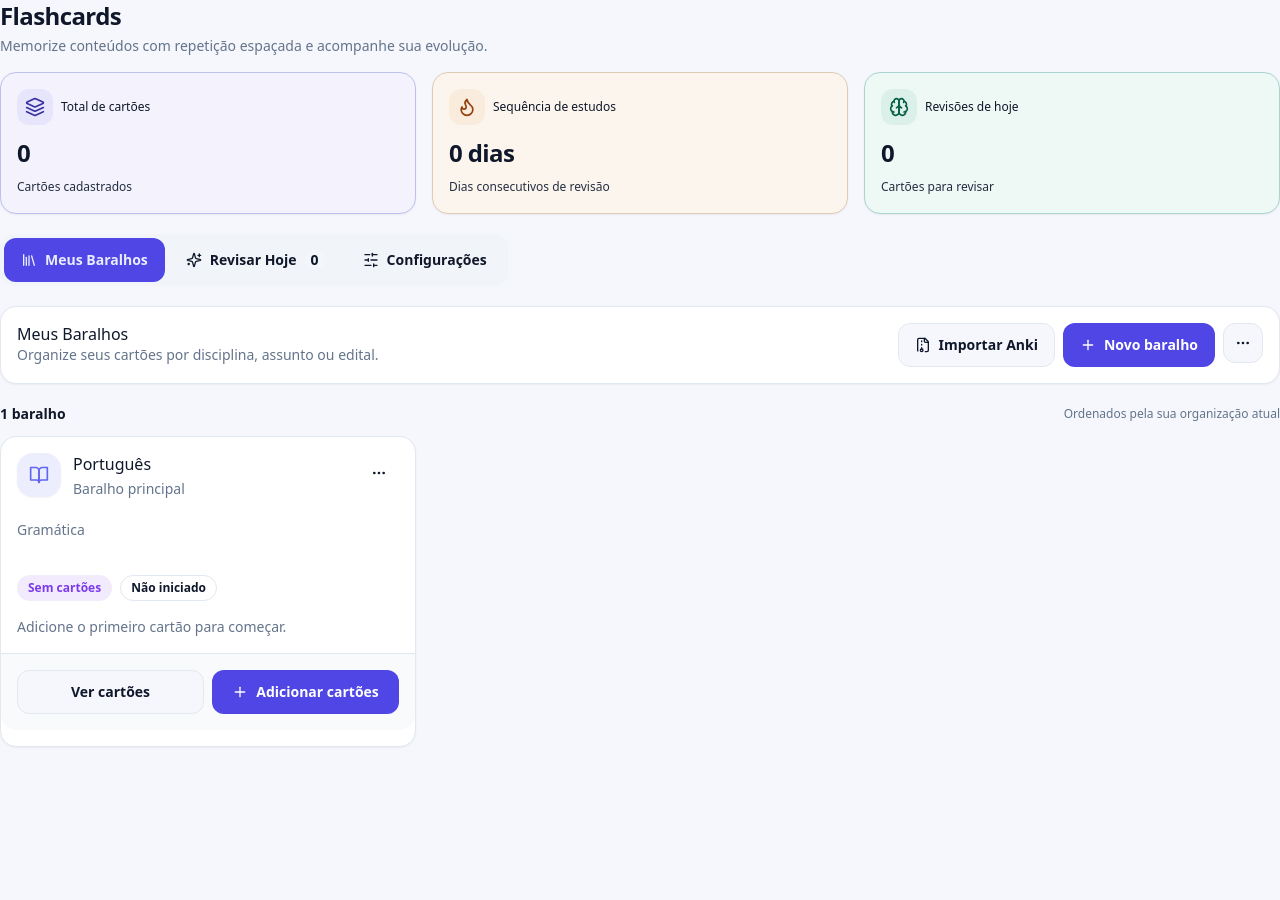
abre a criação de cartão no baralho vazio selecionado sem mostrar progresso
This screenshot has width=1280, height=900.
What coordinates should you click on to do the following:
click the button "Adicionar cartões"
I would click on:
 (306, 692)
Its box is top-left (212, 670), bottom-right (399, 714).
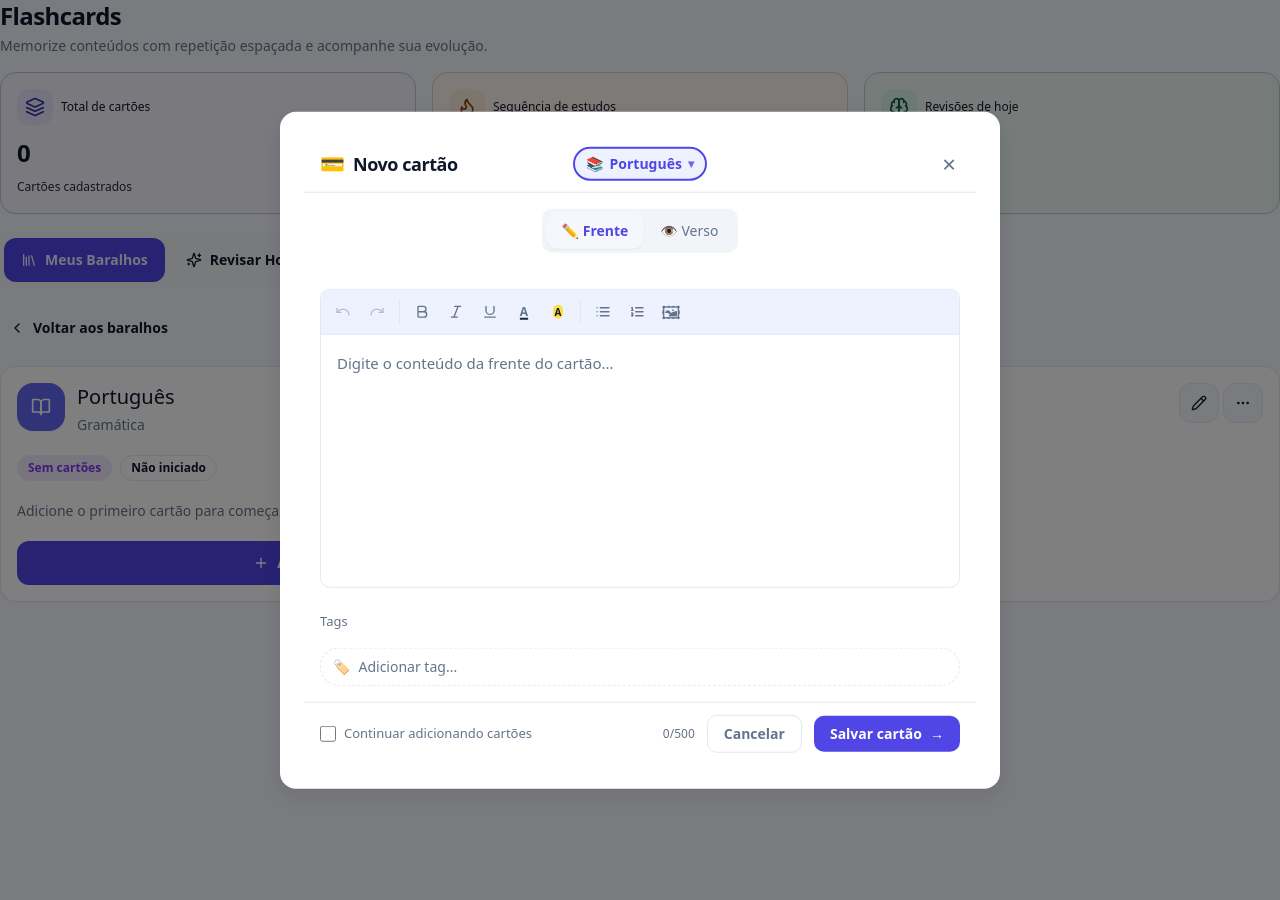
expect the text "Português" is shown: met, box top-left (610, 154), bottom-right (682, 174)
